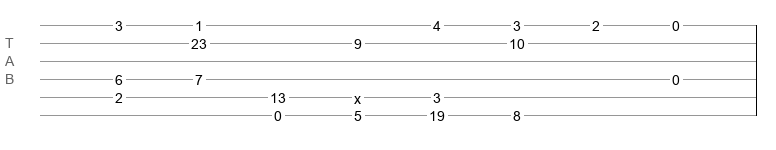0: (274, 108, 282, 118), (672, 72, 680, 82), (672, 18, 680, 28)
1: (195, 18, 203, 28)
10: (509, 36, 525, 46)
13: (270, 90, 286, 100)
19: (429, 108, 445, 118)
2: (115, 90, 123, 100), (592, 18, 600, 28)
23: (191, 36, 207, 46)
3: (115, 18, 123, 28), (433, 90, 441, 100), (513, 18, 521, 28)
4: (433, 18, 441, 28)
5: (354, 108, 362, 118)
6: (115, 72, 123, 82)
7: (195, 72, 203, 82)
8: (513, 108, 521, 118)
9: (354, 36, 362, 46)
x: (354, 91, 361, 99)
